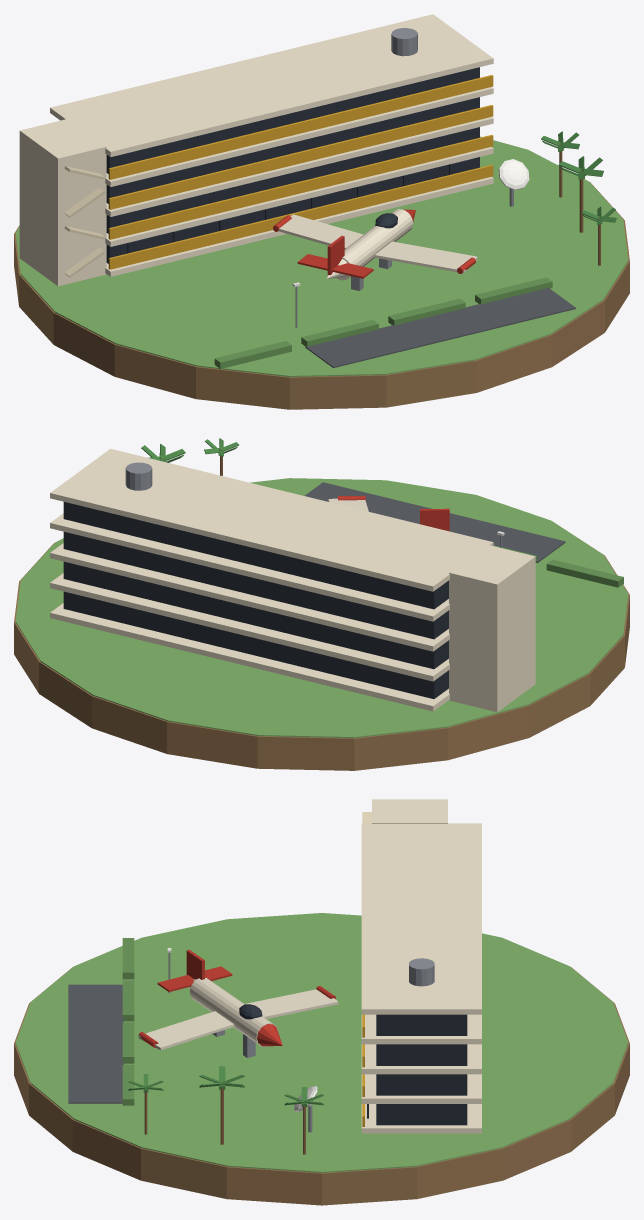
The model's file is aeroplaneLibrary.glb.
3 renders of one model, top to bottom at view 1: azimuth 30°, elevation 25°; view 2: azimuth 150°, elevation 25°; view 3: azimuth 270°, elevation 25°, orthographic.
Visible parts, largest first — view 1: aeroplaneLibrary; view 2: aeroplaneLibrary; view 3: aeroplaneLibrary.
Boxes of the visible parts, box(x1,y1,x2,y2) form: aeroplaneLibrary: box(14, 14, 629, 409); aeroplaneLibrary: box(14, 438, 629, 770); aeroplaneLibrary: box(14, 799, 629, 1205).
Bounding box in the file's own units: 21 × 6.62 × 21.
